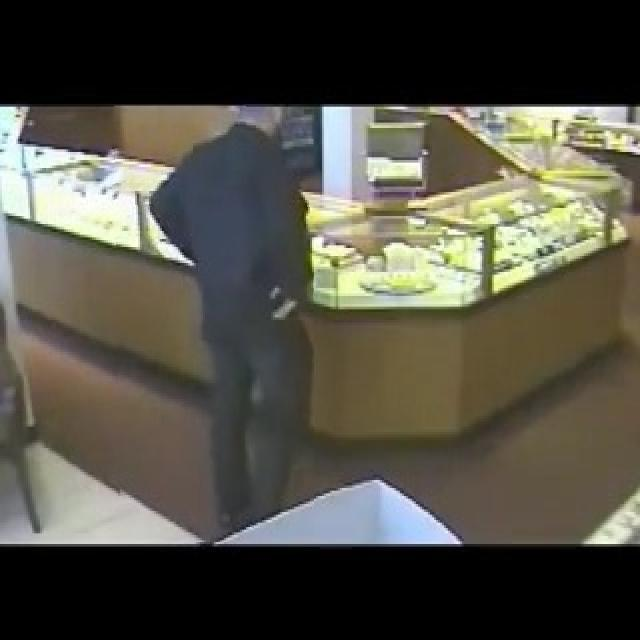Normal: (114, 105, 314, 543)
